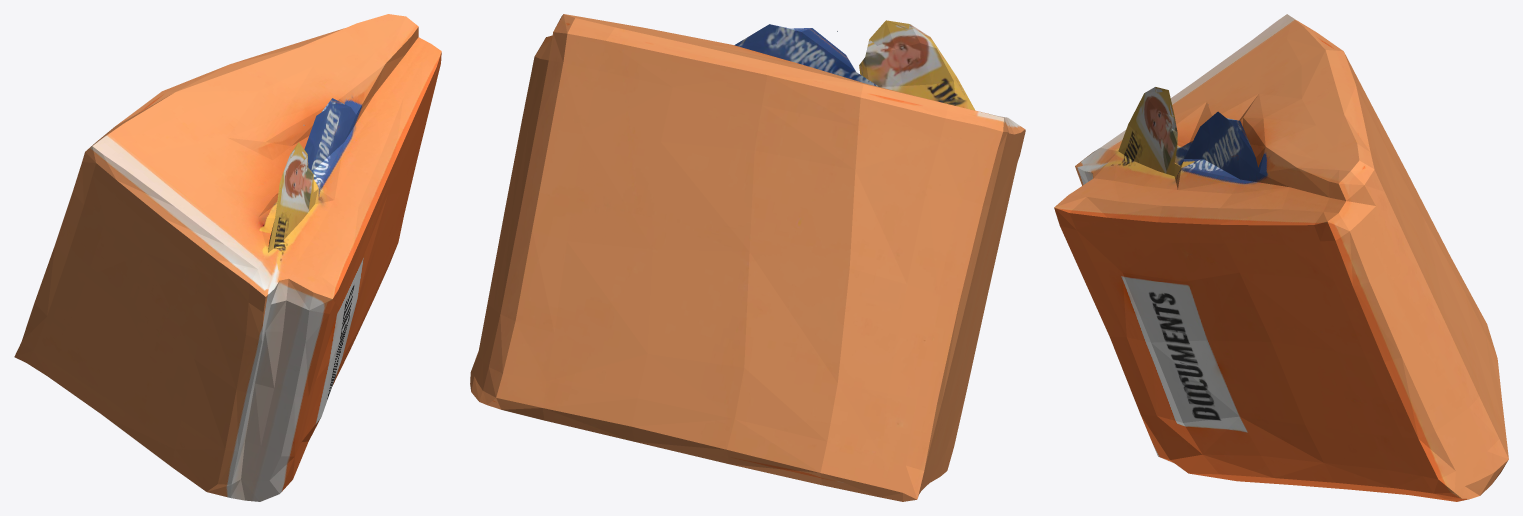
File: documents.obj
The picture shows the model from 3 angles, left to right: view 1: azimuth 30°, elevation 25°; view 2: azimuth 150°, elevation 25°; view 3: azimuth 270°, elevation 25°; orthographic projection. The views are drawn at different scales.
Parts seen in each view (by area): view 1: tripo_node_69cb019f-2a12-4d61-b159-60bc4bb7c8d8; view 2: tripo_node_69cb019f-2a12-4d61-b159-60bc4bb7c8d8; view 3: tripo_node_69cb019f-2a12-4d61-b159-60bc4bb7c8d8.
Part boxes in pixels (box(x1,y1,x2,y2)): tripo_node_69cb019f-2a12-4d61-b159-60bc4bb7c8d8: box(14, 14, 441, 501); tripo_node_69cb019f-2a12-4d61-b159-60bc4bb7c8d8: box(470, 14, 1025, 501); tripo_node_69cb019f-2a12-4d61-b159-60bc4bb7c8d8: box(1054, 14, 1508, 501).
Size of the model in its own units: 0.9504 by 0.9202 by 0.8954.
